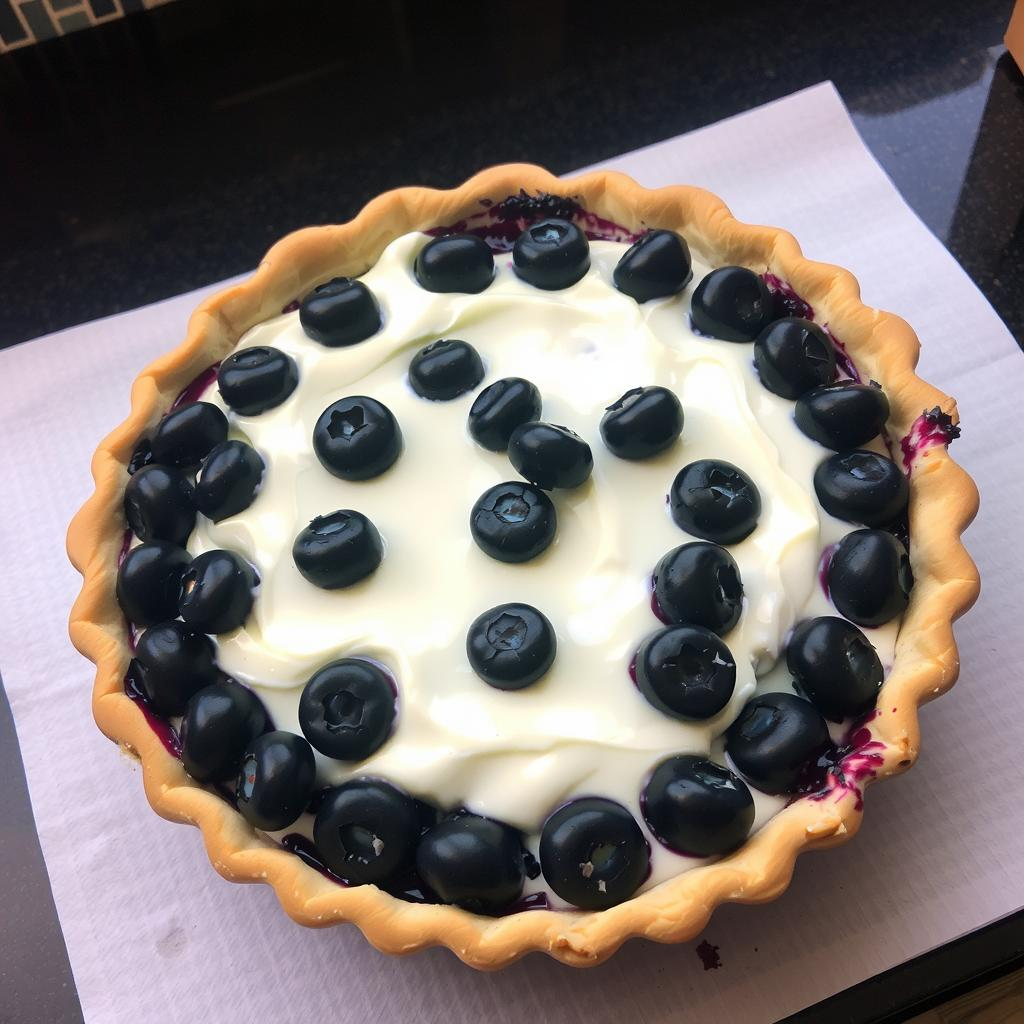pie: (57, 153, 984, 979)
